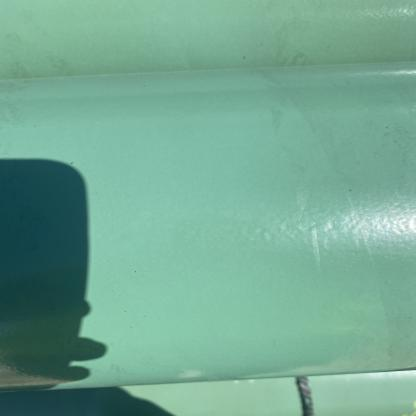clean: (256, 91, 367, 162)
